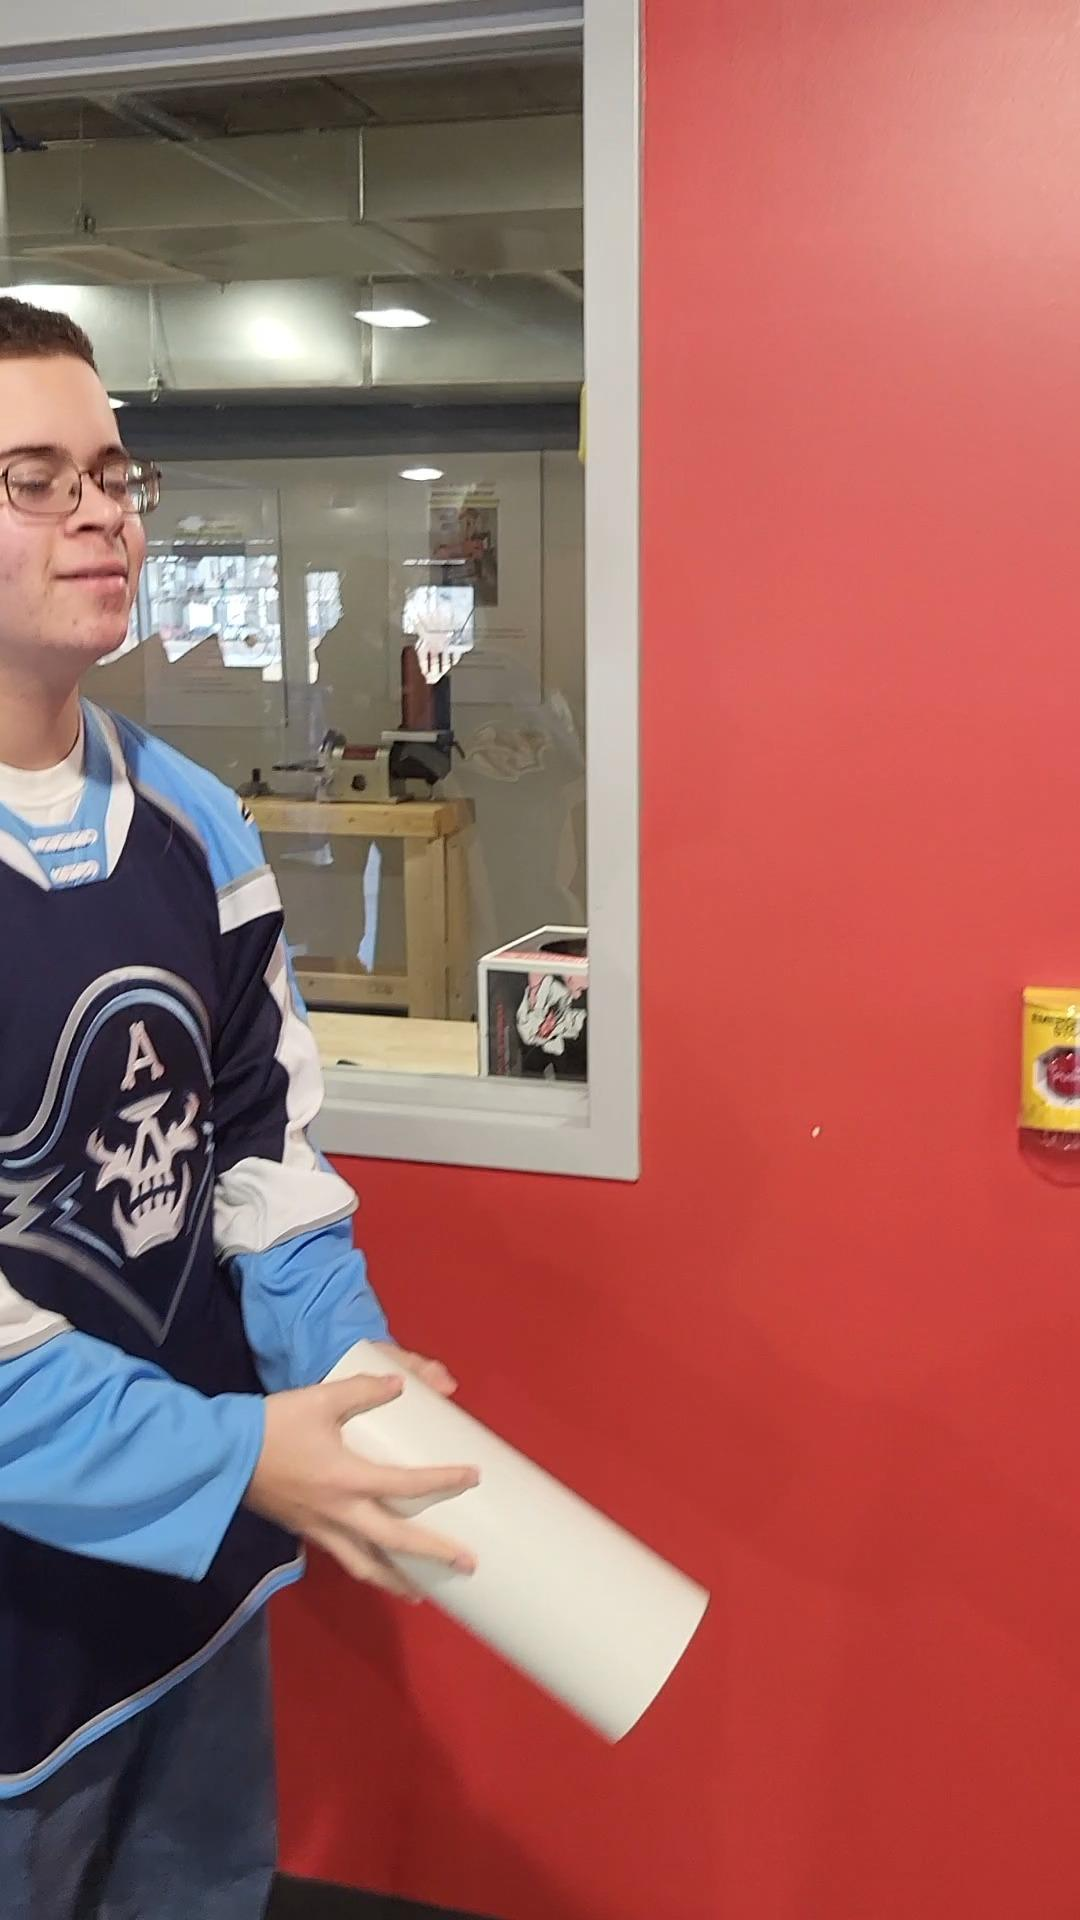coral: (286, 1344, 709, 1745)
